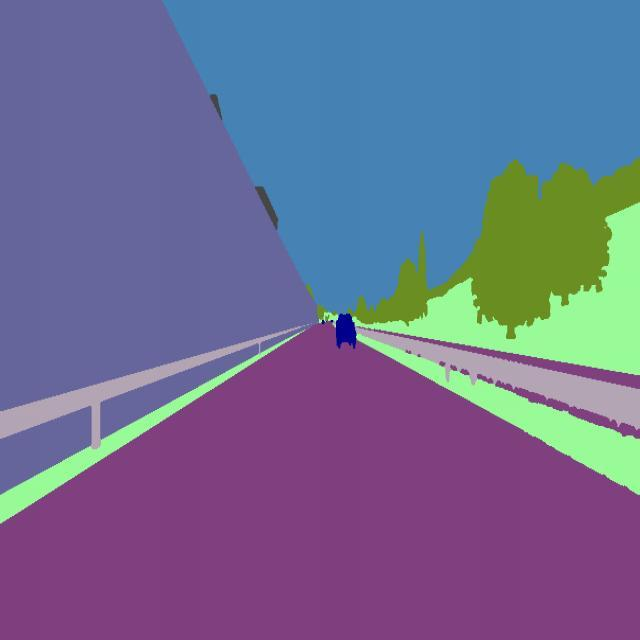safe: (332, 308, 360, 352)
